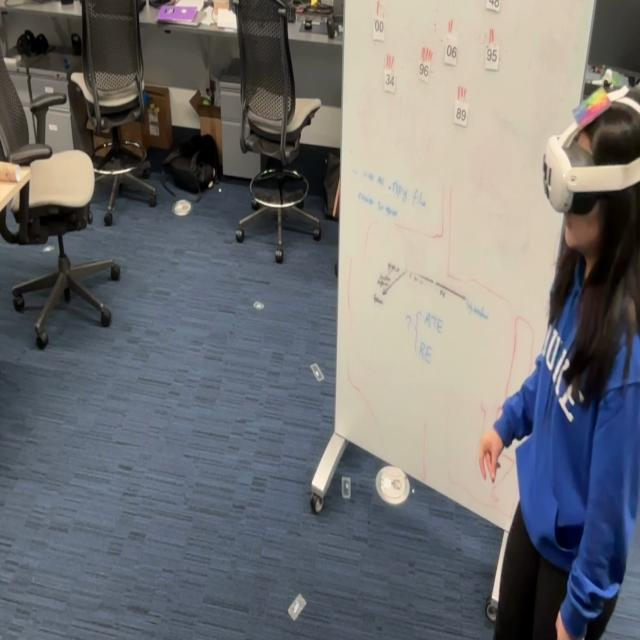Headset: (542, 84, 640, 214)
Marker: (574, 88, 614, 132)
